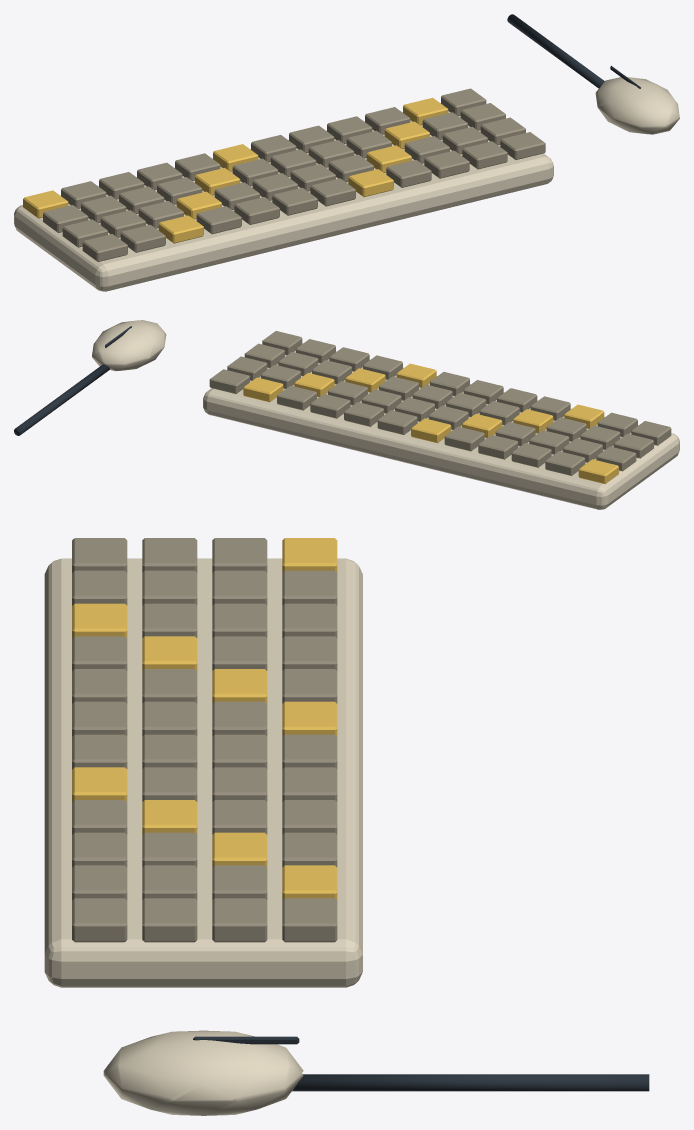
File: keyboard_mouse.glb
3 renders of one model, top to bottom at view 1: azimuth 30°, elevation 25°; view 2: azimuth 150°, elevation 25°; view 3: azimuth 270°, elevation 25°, orthographic. The views are drawn at different scales.
Visible parts, largest first — view 1: board, mouse, mouse-cable, key.036, key.046, key.042, key.045, key.047, key.038, key.041, key.043, key.037 (+39 smaller); view 2: board, mouse, mouse-cable, key, key.004, key.010, key.002, key.008, key.003, key.005, key.011, key.001 (+39 smaller); view 3: board, mouse, mouse-cable, key.011, key.023, key.035, key.047, key.037, key.038, key.041, key.042, key.045 (+39 smaller).
Boxes of the visible parts, box(x1,y1,x2,y2) form: board: box(14, 103, 553, 291); mouse: box(595, 77, 679, 134); mouse-cable: box(507, 14, 604, 88); key.036: box(82, 234, 127, 261); key.046: box(462, 141, 507, 169); key.042: box(310, 178, 355, 206); key.045: box(424, 150, 469, 178); key.047: box(500, 132, 545, 159); key.038: box(158, 215, 203, 243); key.041: box(272, 187, 317, 215); key.043: box(348, 169, 393, 196); key.037: box(120, 224, 165, 252); board: box(203, 343, 679, 509); mouse: box(92, 320, 166, 371); mouse-cable: box(14, 364, 109, 435); key: box(578, 459, 618, 483); key.004: box(444, 426, 484, 451); key.010: box(243, 377, 283, 402); key.002: box(511, 443, 551, 467); key.008: box(310, 394, 350, 418); key.003: box(478, 435, 518, 459); key.005: box(411, 418, 451, 443); key.011: box(209, 369, 249, 393); key.001: box(545, 451, 585, 475); board: box(44, 558, 362, 987); mouse: box(103, 1030, 303, 1115); mouse-cable: box(292, 1074, 649, 1091); key.011: box(282, 898, 337, 942); key.023: box(212, 898, 267, 942); key.035: box(142, 898, 197, 942); key.047: box(72, 898, 127, 942); key.037: box(72, 570, 127, 605); key.038: box(72, 603, 127, 638); key.041: box(72, 701, 127, 736); key.042: box(72, 734, 127, 769); key.045: box(72, 832, 127, 867).
Size of the model in its own units: 0.5904 by 0.038 by 0.285.
